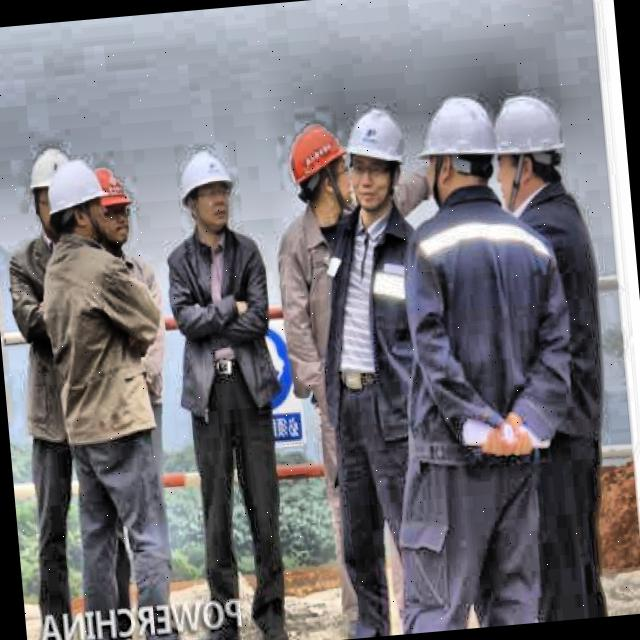helmet: (420, 92, 516, 210), (475, 85, 569, 204), (284, 118, 358, 230), (341, 99, 413, 211), (172, 140, 240, 242), (49, 158, 118, 250), (79, 163, 137, 246), (26, 142, 70, 238)
